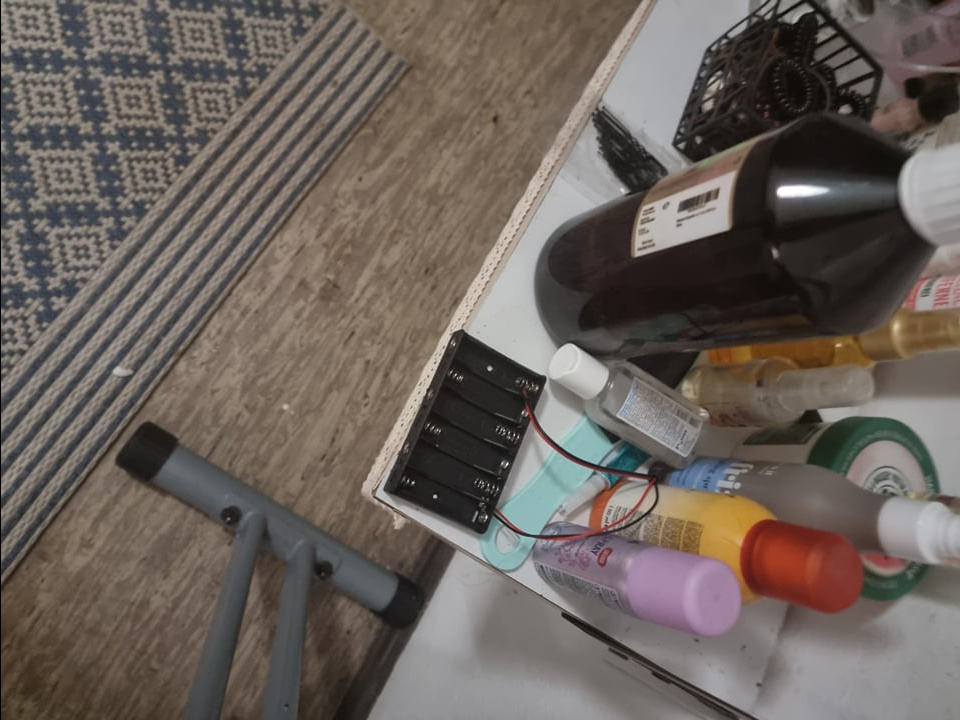BATTERY BOX: (381, 334, 552, 537)
